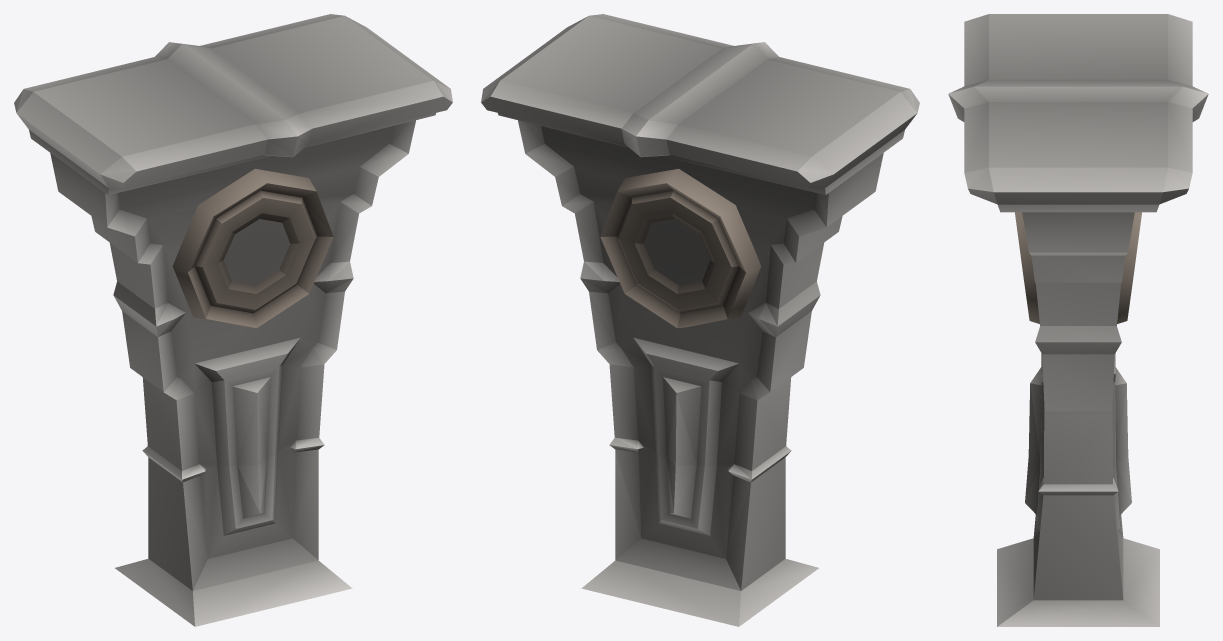
The model's file is obj_milestone_C_LOW.FBX.
The picture shows the model from 3 angles, left to right: view 1: azimuth 30°, elevation 25°; view 2: azimuth 150°, elevation 25°; view 3: azimuth 270°, elevation 25°; orthographic projection.
Visible parts, largest first — view 1: obj_milestone_C_LOW; view 2: obj_milestone_C_LOW; view 3: obj_milestone_C_LOW.
Part boxes in pixels (left/top/right/bottom): obj_milestone_C_LOW: left=14, top=14, right=452, bottom=626; obj_milestone_C_LOW: left=481, top=14, right=919, bottom=626; obj_milestone_C_LOW: left=948, top=14, right=1208, bottom=626.
Size of the model in its own units: 2.16 by 2.92 by 1.38.
